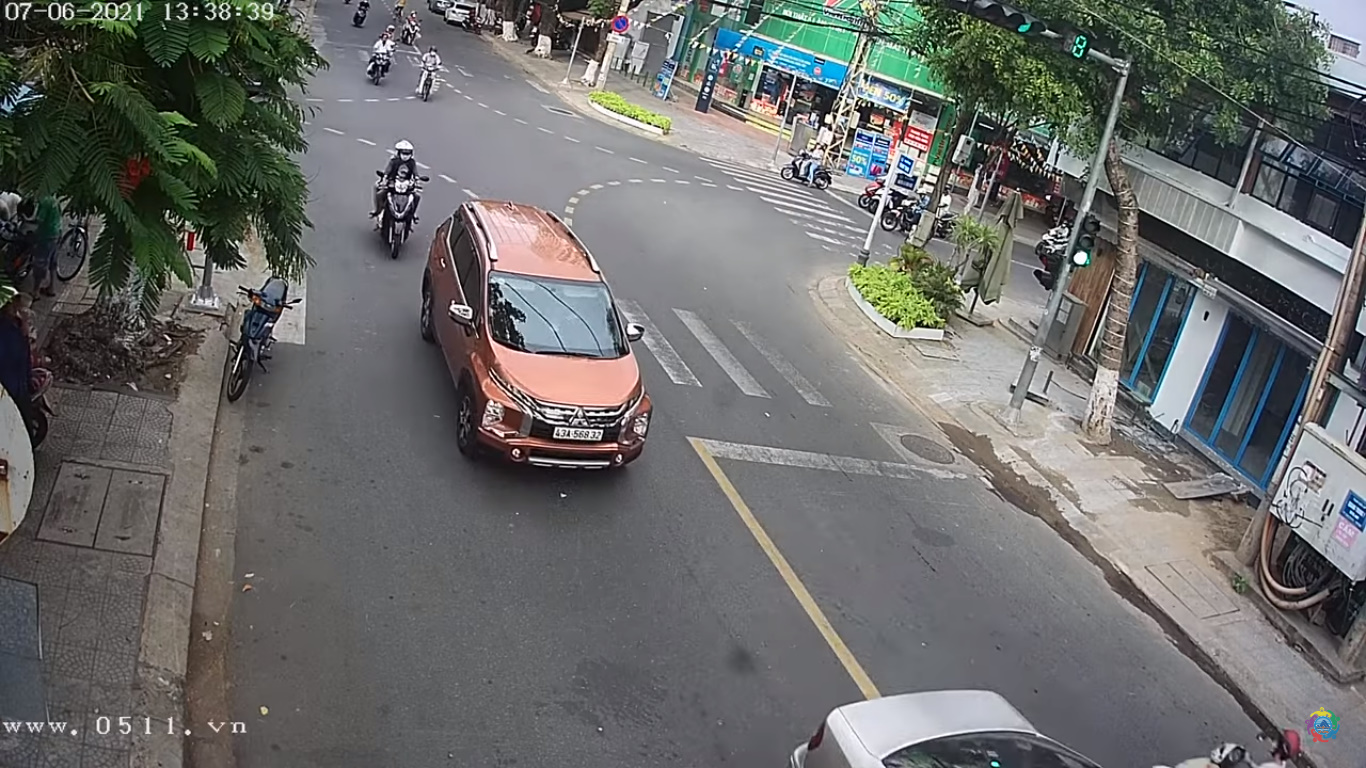car: (410, 204, 656, 493)
